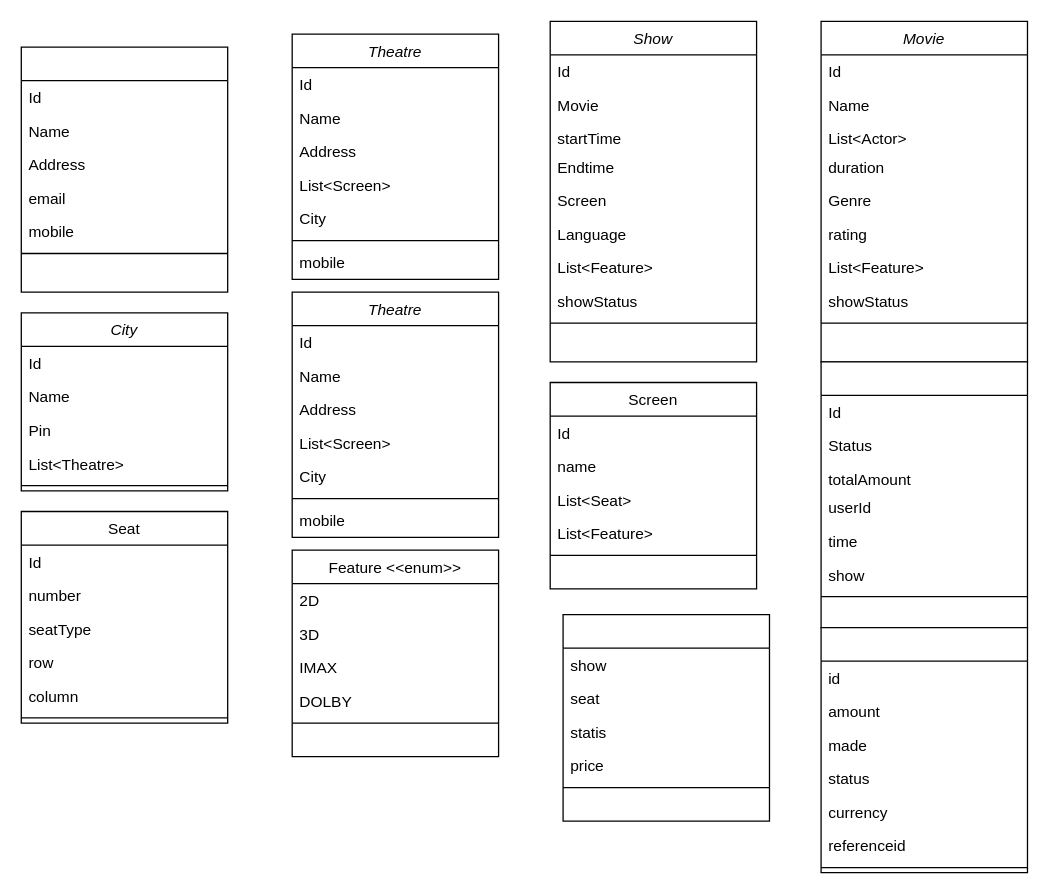
The diagram is 1049 pixels wide and 894 high, and some of its shapes have lost their labels. The shapes that lost their labels are listed below. From the top down, each one's box as (x1, y1, x2, y2) in pixels, then its label:
(20, 46, 228, 292): User
(820, 361, 1027, 628): BookingTicket
(562, 613, 769, 821): show seat
(820, 626, 1027, 873): Payment
